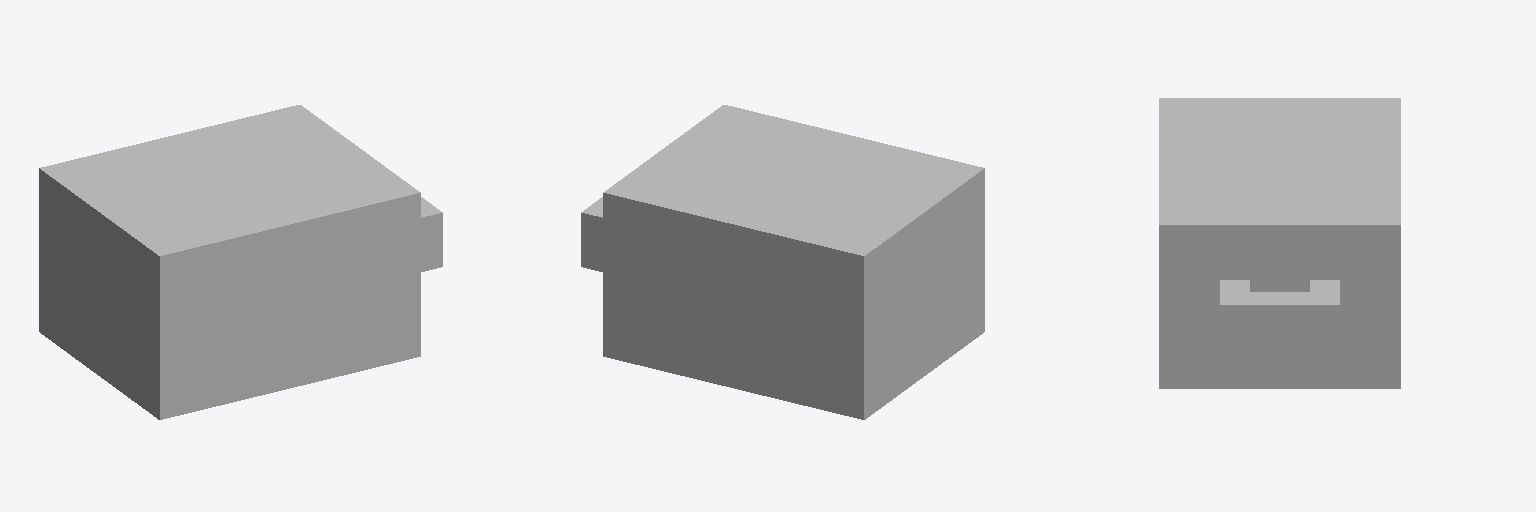
The model's file is LuggageGreen.obj.
3 views of the same model, side by side, from view 1: azimuth 30°, elevation 25°; view 2: azimuth 150°, elevation 25°; view 3: azimuth 270°, elevation 25° (orthographic).
Visible parts, largest first — view 1: object 1; view 2: object 1; view 3: object 1.
Boxes of the visible parts, <box> form: object 1: <box>39,105,442,419</box>; object 1: <box>581,105,984,419</box>; object 1: <box>1159,98,1400,388</box>.
Size of the model in its own units: 1.2 by 0.6 by 0.8.